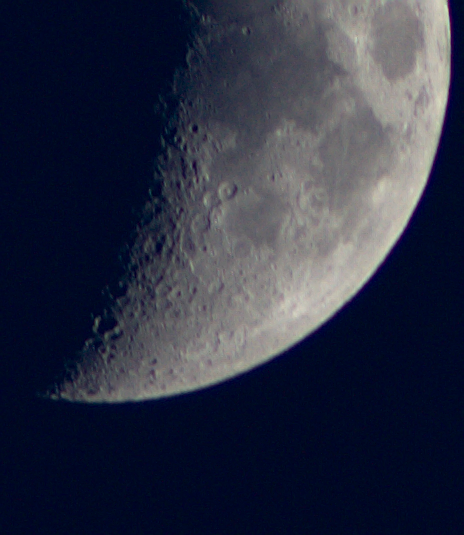crater: (225, 229, 263, 270), (213, 174, 250, 210), (183, 115, 206, 140), (235, 18, 255, 39), (181, 278, 202, 297), (343, 2, 367, 18), (349, 29, 364, 51), (403, 178, 416, 201)
